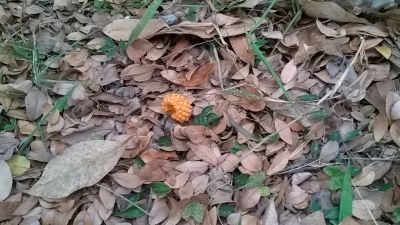eggs: (163, 92, 191, 122)
